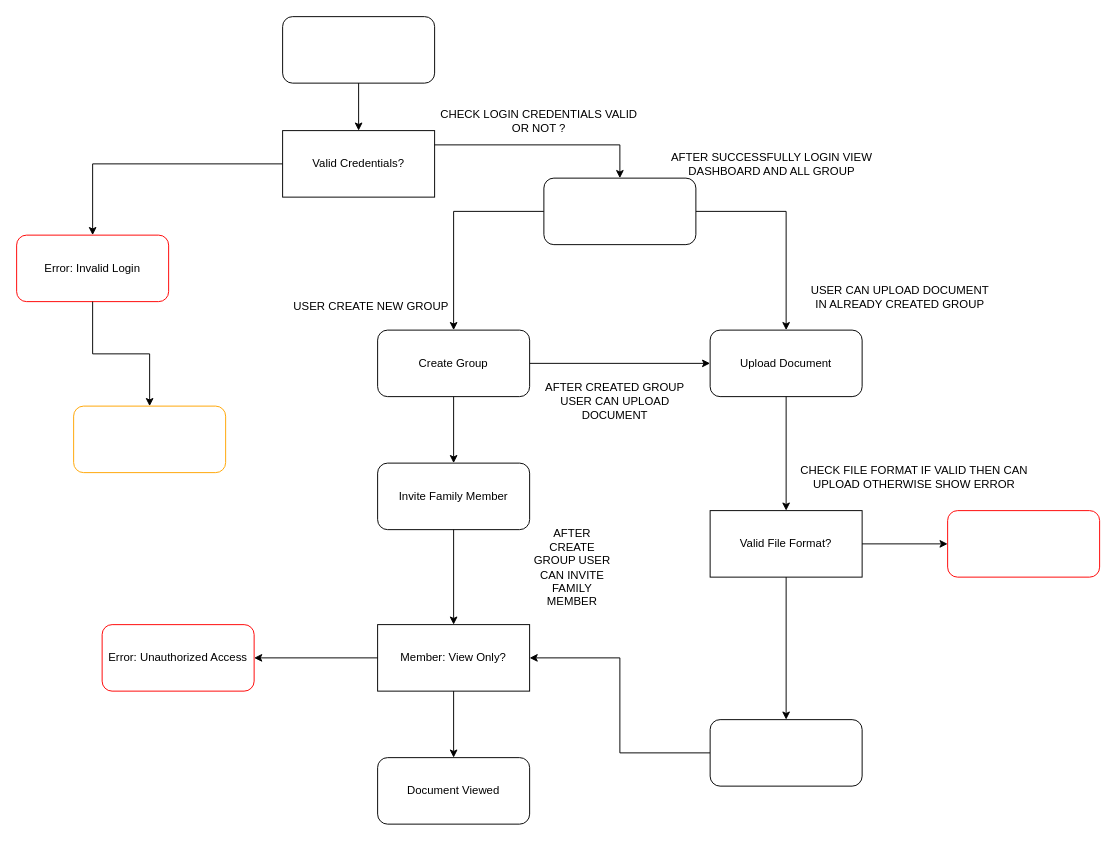
Image size: 1116x841. Some labels were removed from this diagram. The box of each missing label's shape, as (x1, y1, x2, y2) in pixels:
Access Dashboard: (543, 177, 696, 245)
Error: Invalid File: (947, 510, 1100, 577)
Forgot Password?: (73, 405, 226, 473)
Login/Register: (282, 16, 435, 83)
Upload Successful: (709, 719, 862, 786)
